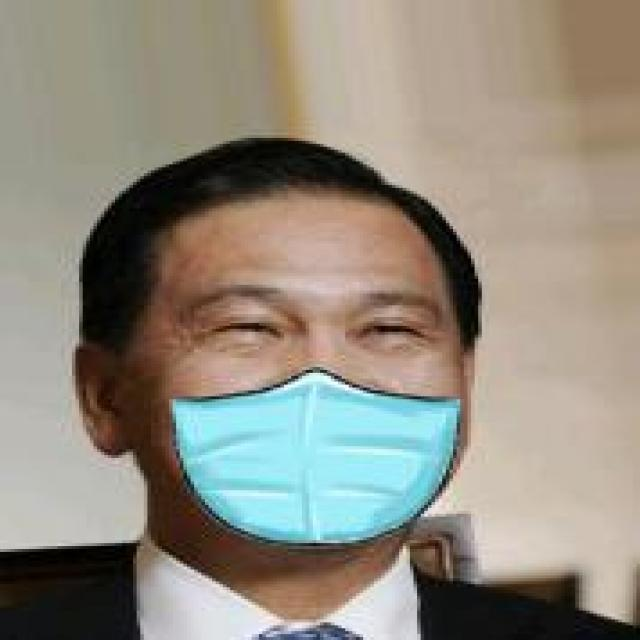mask: (86, 97, 504, 581)
